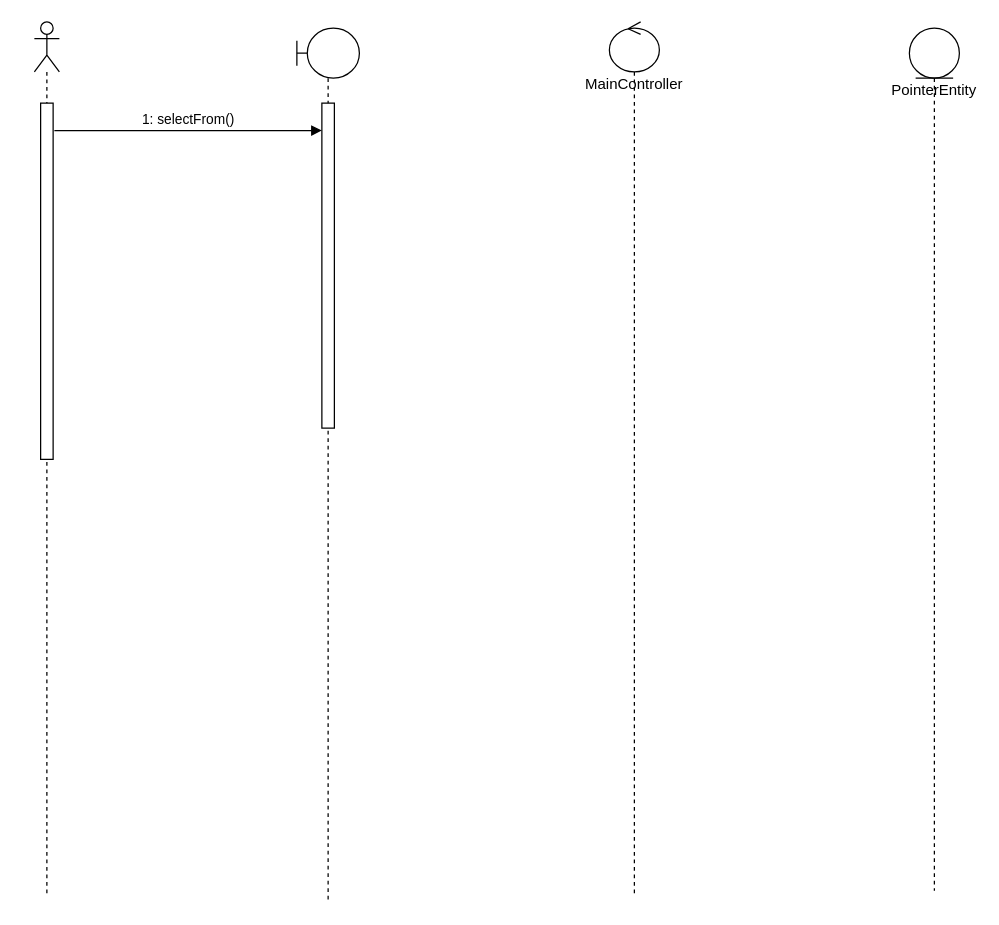
Some shapes in this 999 by 925 pixel diagram are drawn without their labels. Here are the shapes that lost their labels. From the top down, the box of each, then its label:
(33, 21, 59, 897): Usuário
(296, 27, 359, 903): MainView
